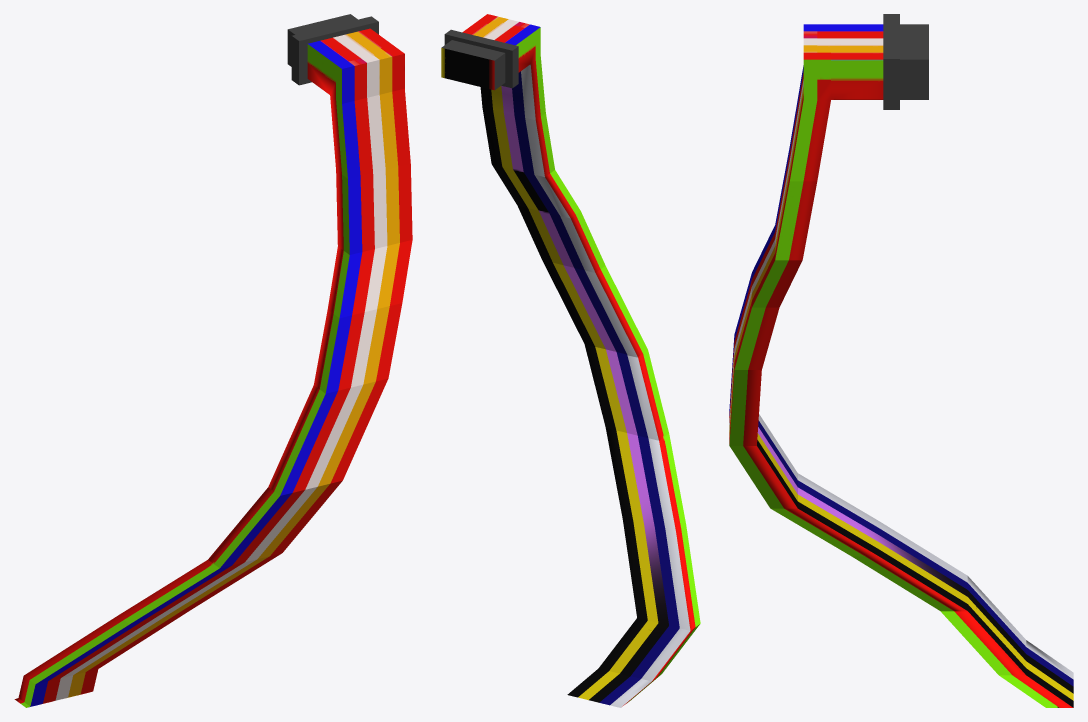
Rendered from potcable.fbx.
The picture shows the model from 3 angles, left to right: view 1: azimuth 30°, elevation 25°; view 2: azimuth 150°, elevation 25°; view 3: azimuth 270°, elevation 25°; orthographic projection. The views are drawn at different scales.
Parts seen in each view (by area): view 1: Cables, Cable Port; view 2: Cables, Cable Port; view 3: Cables, Cable Port.
Part boxes in pixels (left/top/right/bottom): Cables: left=14, top=28, right=412, bottom=707; Cable Port: left=287, top=14, right=378, bottom=85; Cables: left=441, top=14, right=700, bottom=707; Cable Port: left=441, top=29, right=518, bottom=89; Cables: left=729, top=24, right=1073, bottom=707; Cable Port: left=883, top=14, right=928, bottom=109.
Bounding box in the file's own units: 75.13 × 151 × 60.88.
